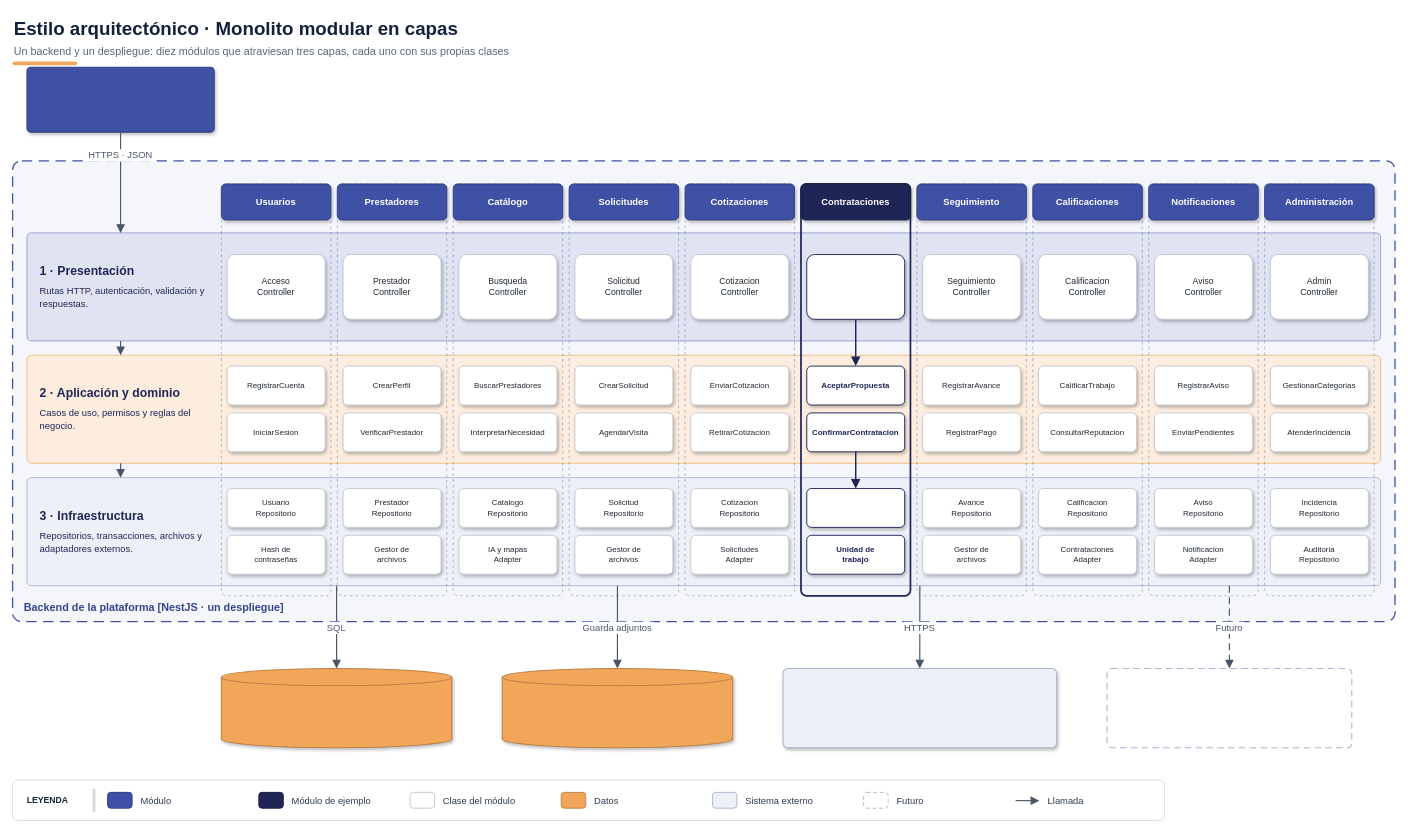
The diagram is 1408 pixels wide and 833 high, and some of its shapes have lost their labels. Here are the shapes that lost their labels. From the top down, the centre of each, then its label:
point (121, 100): Aplicación web [React + Vite]
point (856, 288): Contratacion Controller
point (856, 509): Contratacion Repositorio
point (337, 709): Base de datos [PostgreSQL]
point (617, 709): Archivos [Almacenamiento de objetos]
point (920, 709): Servicios externos [IA · Notificaciones · Mapas]
point (1229, 708): Pasarela de pagos [Futuro]
